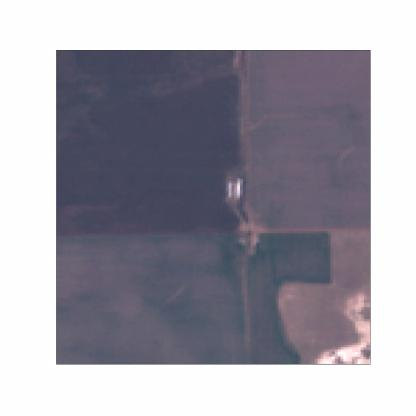silobolsa: (226, 176, 232, 201), (237, 174, 241, 200)
